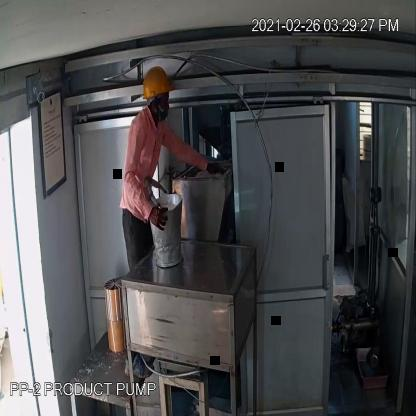helmet: (137, 65, 176, 102)
